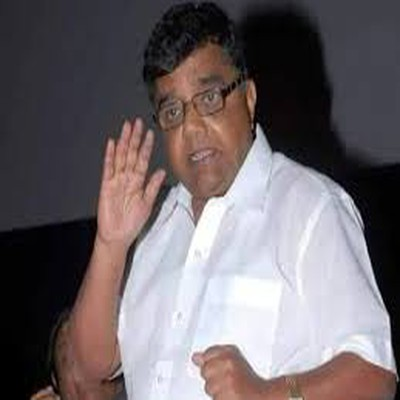eywear: (141, 82, 251, 131)
